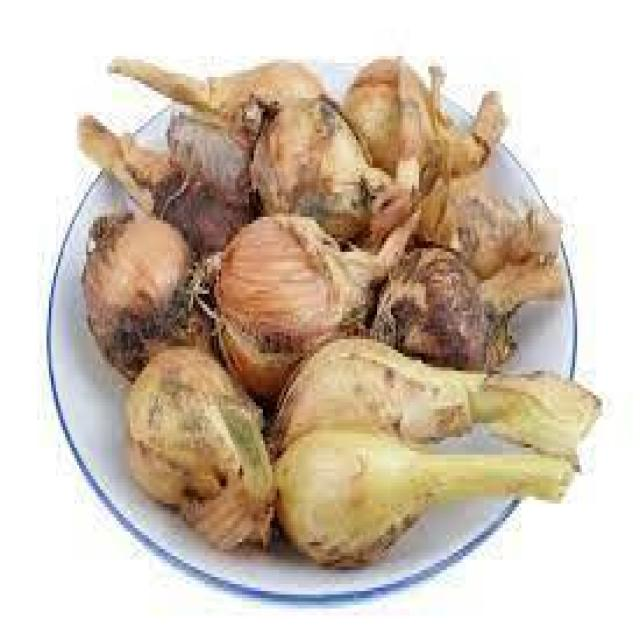Onion: (249, 341, 603, 572), (190, 206, 422, 392), (72, 47, 258, 236), (109, 350, 277, 514), (372, 233, 568, 362), (253, 93, 420, 240), (61, 212, 207, 376), (340, 52, 510, 182), (115, 49, 325, 133), (420, 173, 564, 278)
